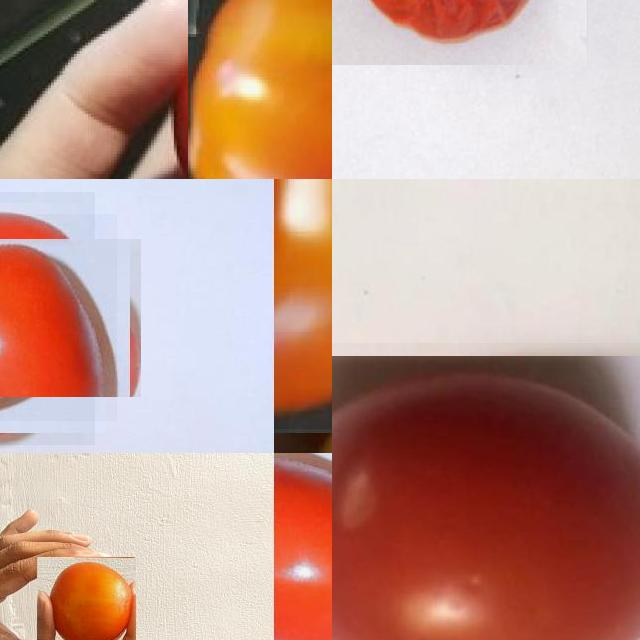Fresh Tomato: (332, 343, 640, 640), (0, 214, 117, 421), (274, 179, 332, 429), (274, 453, 332, 640), (37, 558, 136, 640)
Rotten Tomato: (332, 0, 587, 64)
